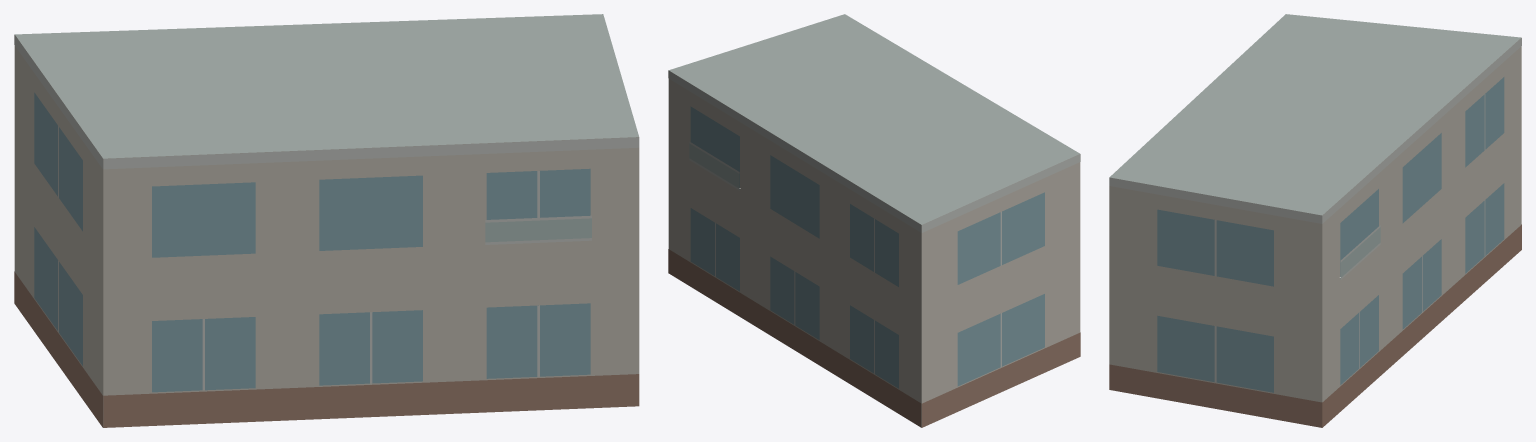
The model's file is survey-upis-33034417.glb.
3 views of the same model, side by side, from view 1: azimuth 30°, elevation 25°; view 2: azimuth 150°, elevation 25°; view 3: azimuth 270°, elevation 25° (orthographic). The views are drawn at different scales.
Visible parts, largest first — view 1: survey-upis-33034417.tmp; view 2: survey-upis-33034417.tmp; view 3: survey-upis-33034417.tmp.
Boxes of the visible parts, <box> form: survey-upis-33034417.tmp: <box>14,14,639,427</box>; survey-upis-33034417.tmp: <box>668,14,1080,427</box>; survey-upis-33034417.tmp: <box>1109,14,1521,427</box>.
Bounding box in the file's own units: 12.42 × 6.1 × 10.74.
